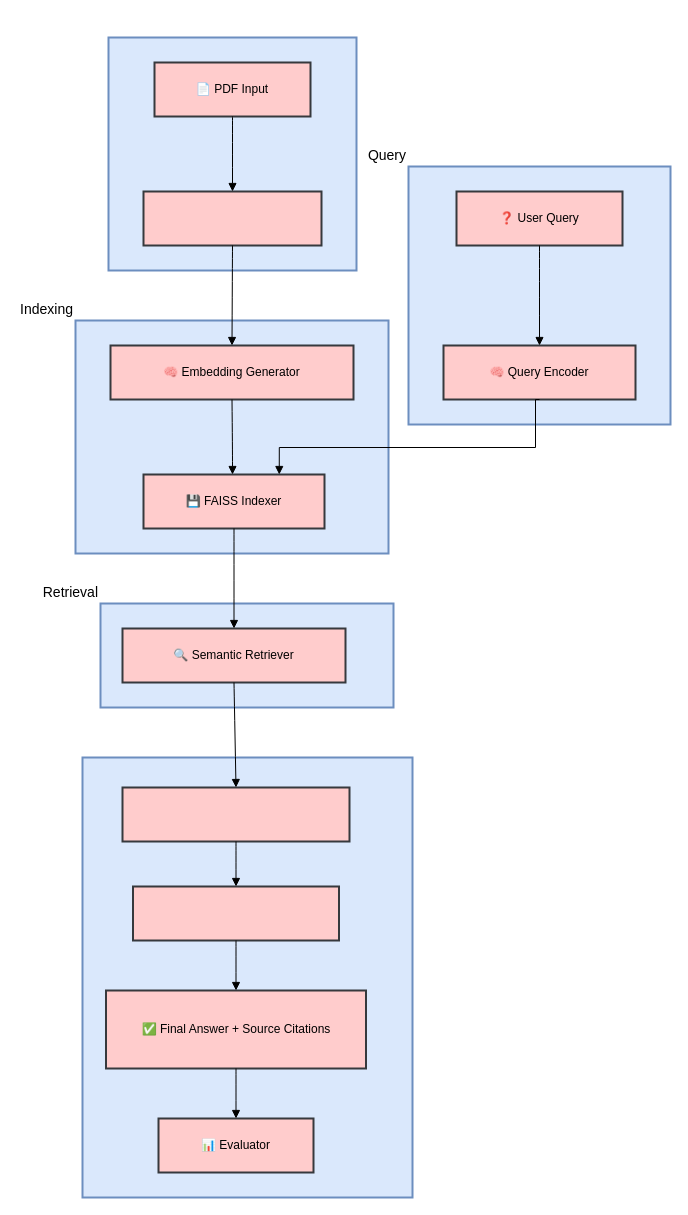
Image size: 688x1215. Some labels were removed from this diagram. Each missing label, with the box of its shape:
Ingestion: (107, 36, 357, 271)
Response: (81, 756, 413, 1198)
🔧 PDF Chunker: (142, 190, 322, 246)
🤖 Gemini Flash API: (132, 885, 340, 941)
🧾 Prompt Constructor: (121, 786, 350, 842)
